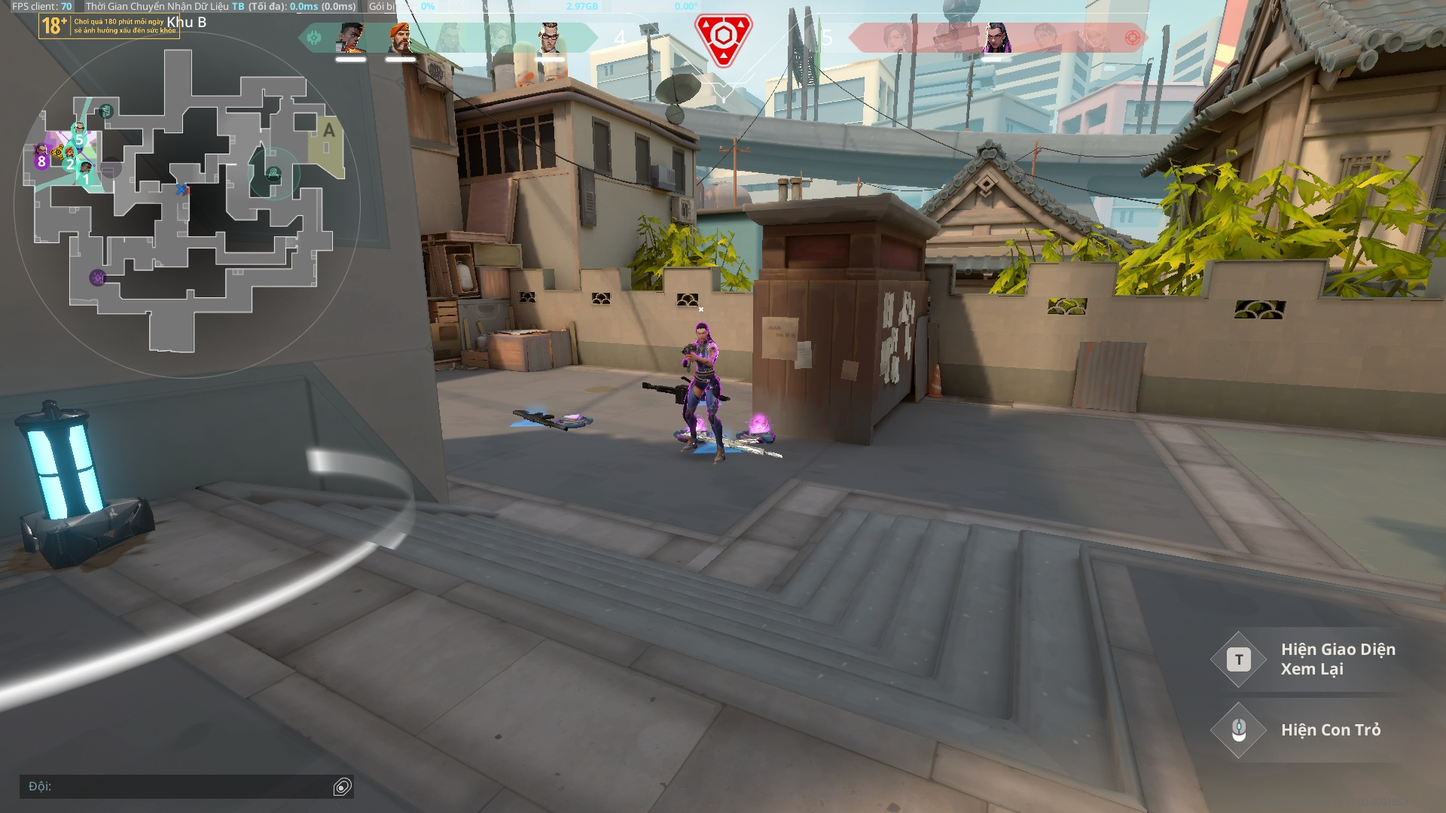body: (691, 339, 718, 373)
head: (694, 321, 709, 342)
